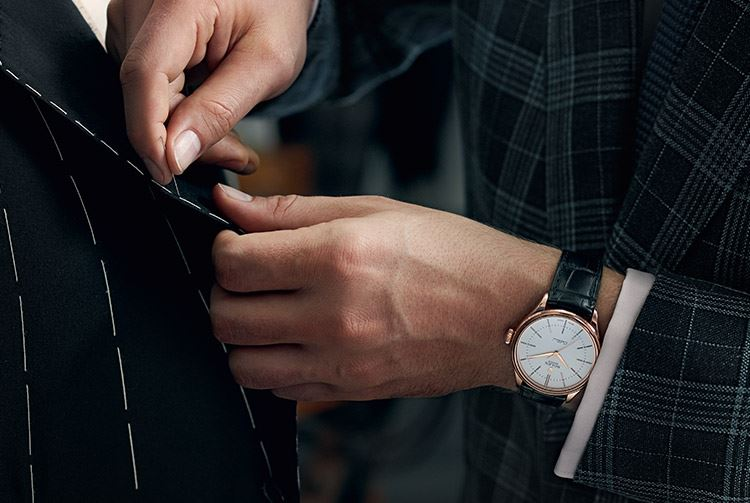clock: (516, 315, 598, 392)
